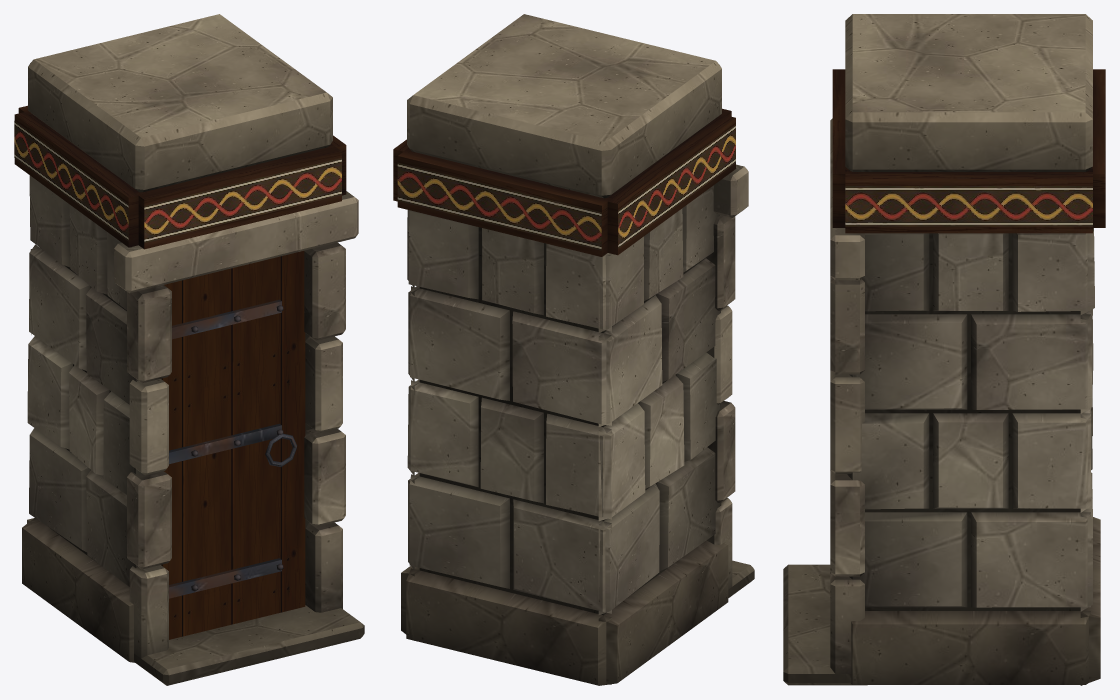
The model's file is interior_wall_stone_door.glb.
3 views of the same model, side by side, from view 1: azimuth 30°, elevation 25°; view 2: azimuth 150°, elevation 25°; view 3: azimuth 270°, elevation 25° (orthographic). The views are drawn at different scales.
Visible parts, largest first — view 1: interior_wall_stone_door; view 2: interior_wall_stone_door; view 3: interior_wall_stone_door.
Part boxes in pixels (x1,y1,x2,y2): interior_wall_stone_door: (14, 14, 364, 685); interior_wall_stone_door: (393, 14, 754, 685); interior_wall_stone_door: (783, 14, 1105, 685).
Bounding box in the file's own units: 1.18 × 2.55 × 1.3.
Materials: 5 (5 with a texture image).
